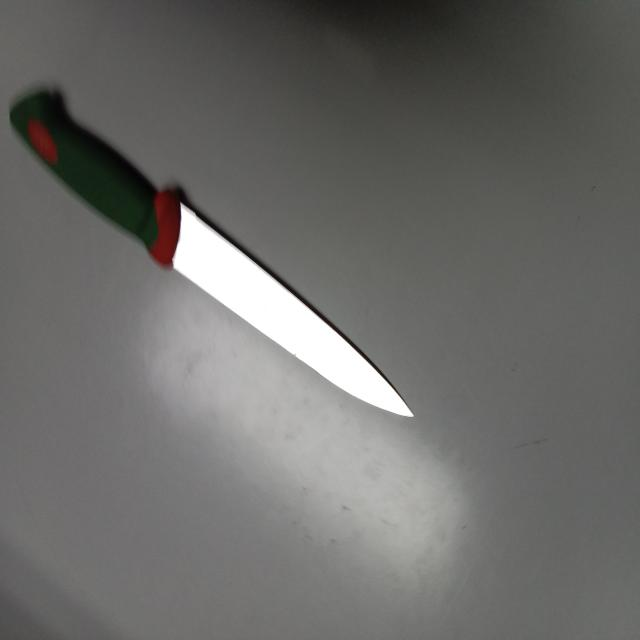Knife: (9, 90, 414, 417)
